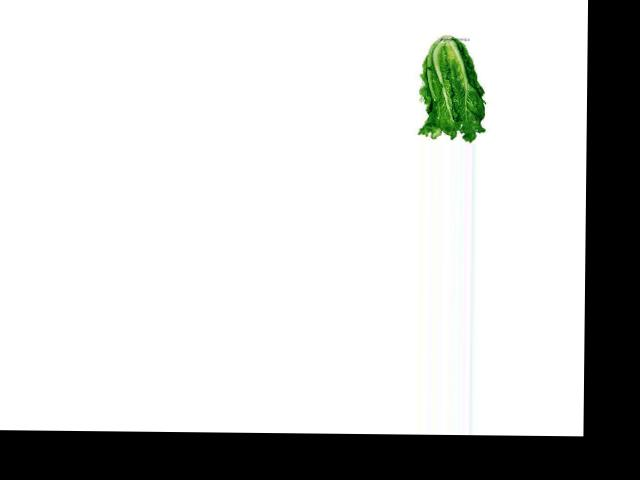lettuce: (415, 38, 486, 142)
